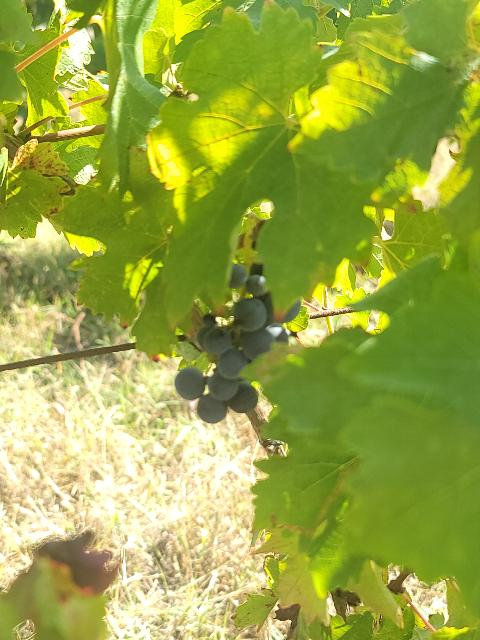grapes: (175, 262, 288, 422)
